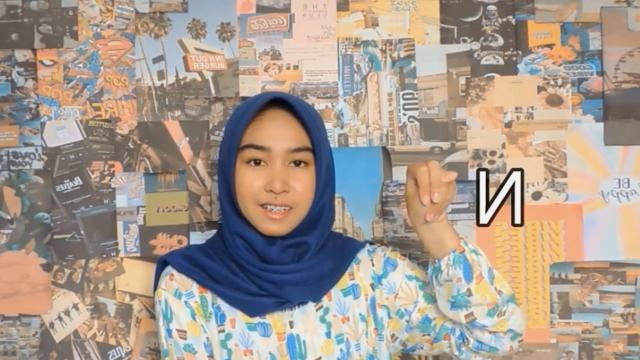N: (402, 158, 460, 230)
